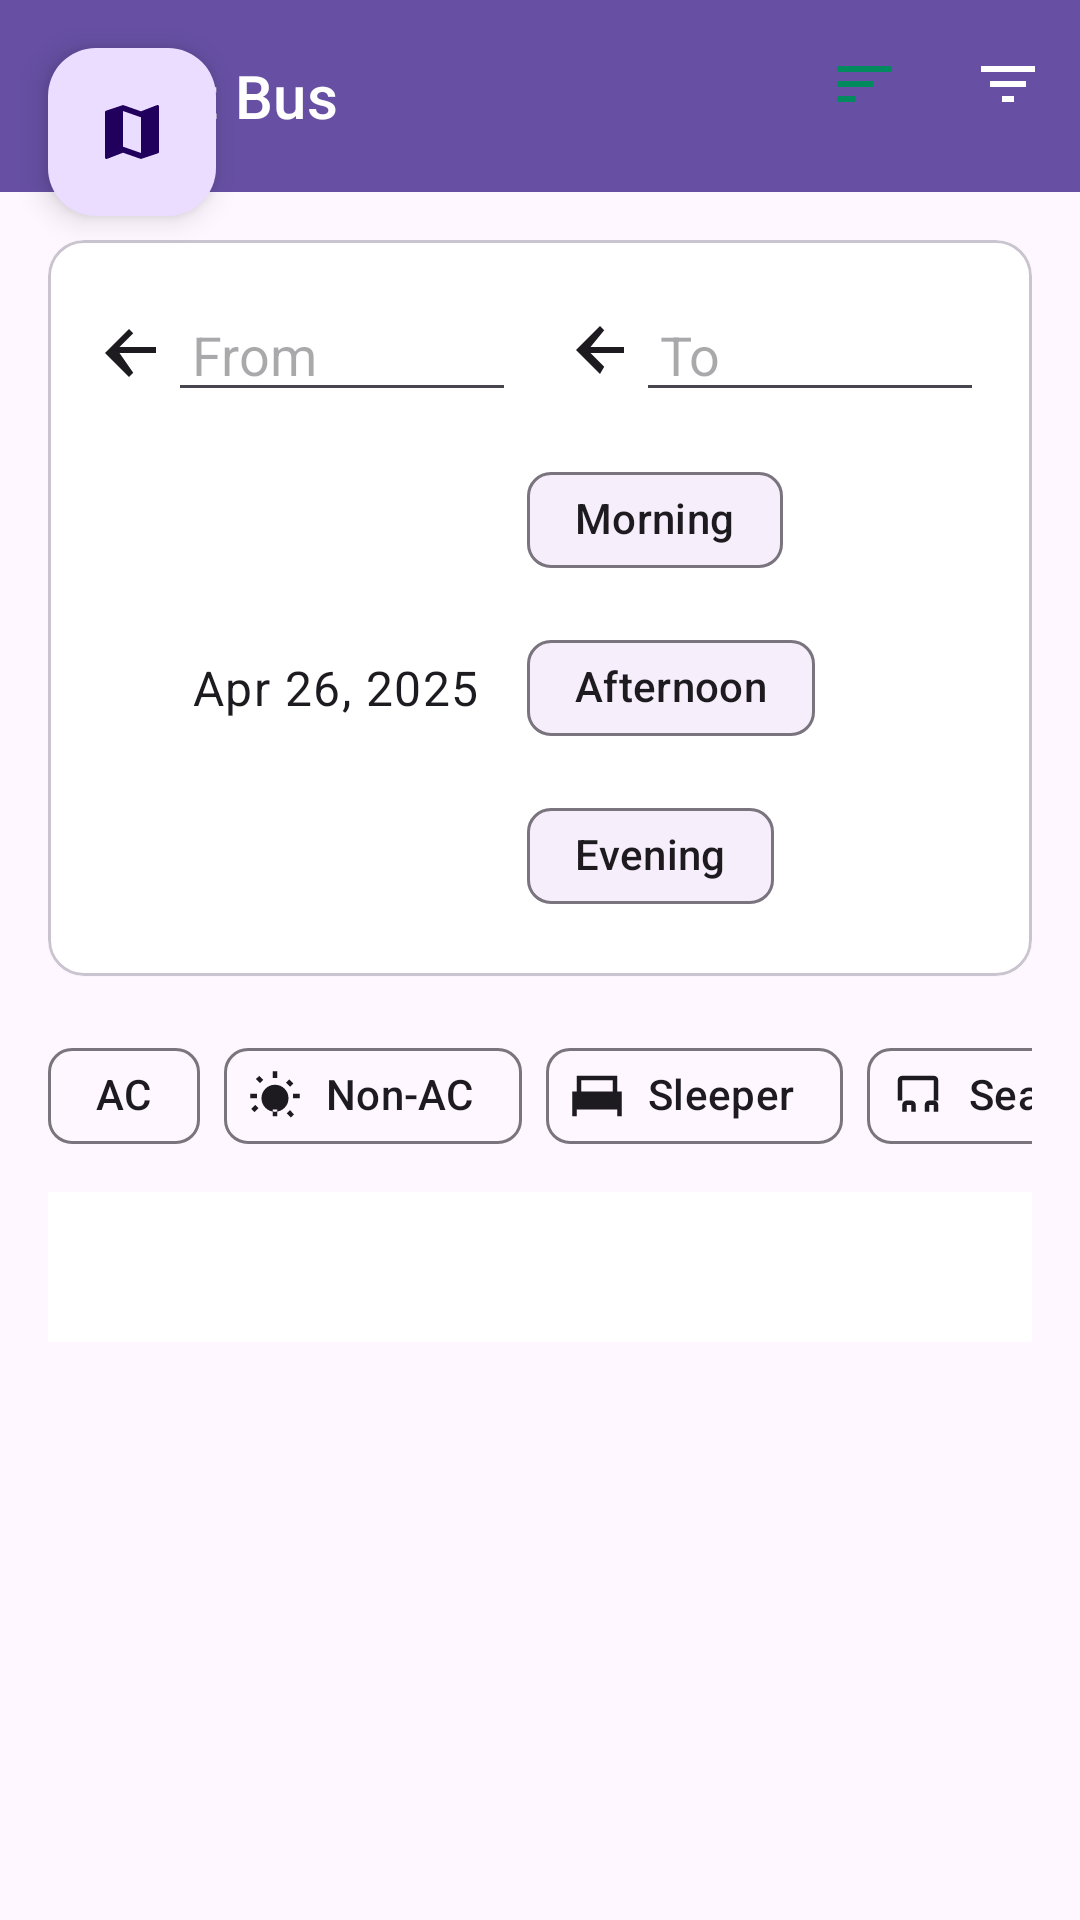

Point at icon controls on the screen. Image size 1080 × 1920, points as [x,y].
Show map: [132,132]
